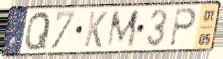3: (146, 8, 169, 49)
7: (50, 10, 77, 52)
K: (83, 10, 109, 49)
M: (105, 8, 141, 49)
P: (168, 7, 198, 49)
Q: (23, 10, 52, 53)
